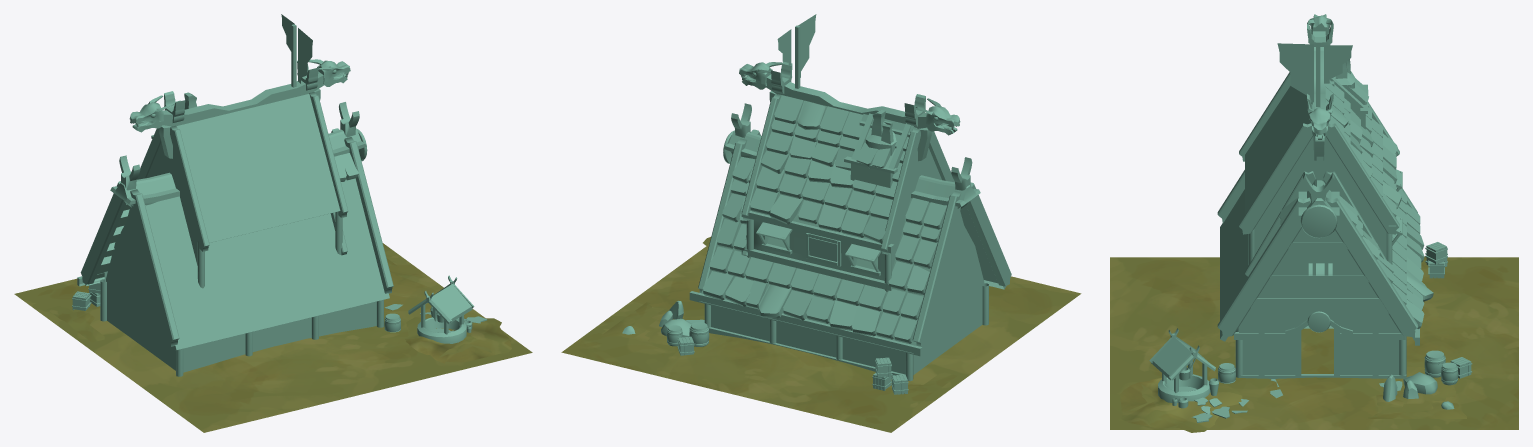
Rendered from Longhaus New.fbx.
The picture shows the model from 3 angles, left to right: view 1: azimuth 30°, elevation 25°; view 2: azimuth 150°, elevation 25°; view 3: azimuth 270°, elevation 25°; orthographic projection. The views are drawn at different scales.
Parts seen in each view (by area): view 1: pCube79; view 2: pCube79; view 3: pCube79.
Boxes of the visible parts, <box> form: pCube79: <box>14,14,532,432</box>; pCube79: <box>561,14,1081,432</box>; pCube79: <box>1110,14,1518,432</box>.
Size of the model in its own units: 1.02 by 0.9019 by 1.
